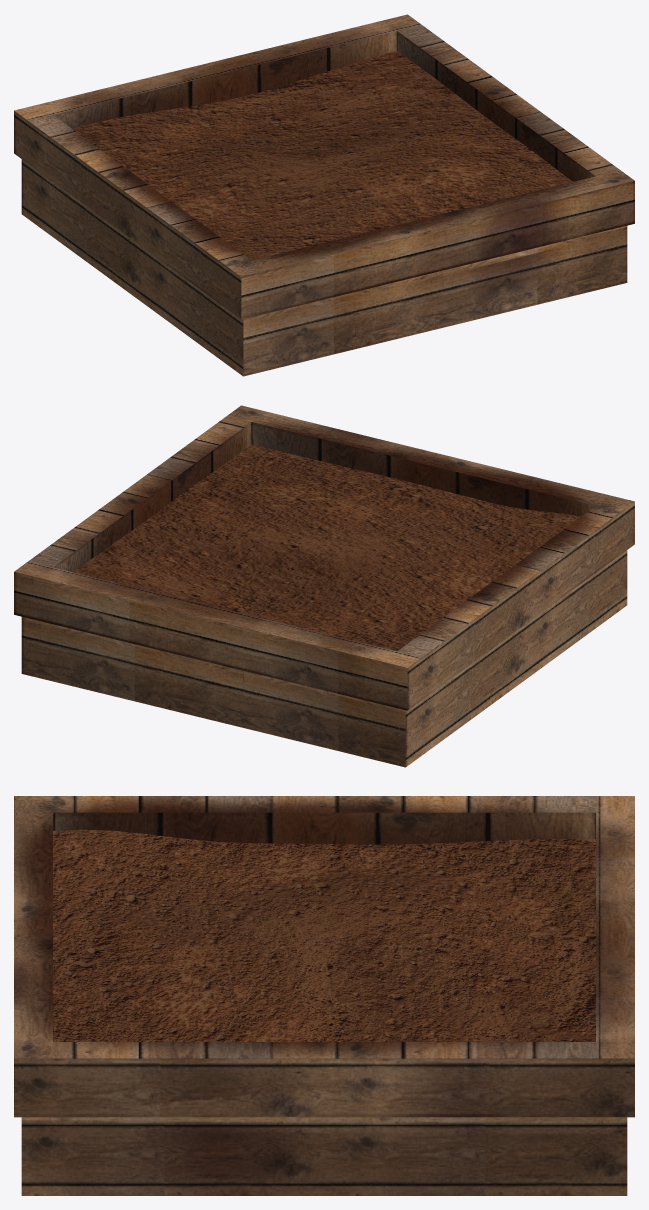
Rendered from Crop_Plot.glb.
3 renders of one model, top to bottom at view 1: azimuth 30°, elevation 25°; view 2: azimuth 150°, elevation 25°; view 3: azimuth 270°, elevation 25°, orthographic. The views are drawn at different scales.
Parts seen in each view (by area): view 1: Planter_Box.001; view 2: Planter_Box.001; view 3: Planter_Box.001.
Part boxes in pixels (<box>): Planter_Box.001: <box>14,14,634,376</box>; Planter_Box.001: <box>14,405,634,767</box>; Planter_Box.001: <box>14,796,634,1195</box>.
Size of the model in its own units: 1.38 by 0.3454 by 1.38.
2 materials, 2 textured.
